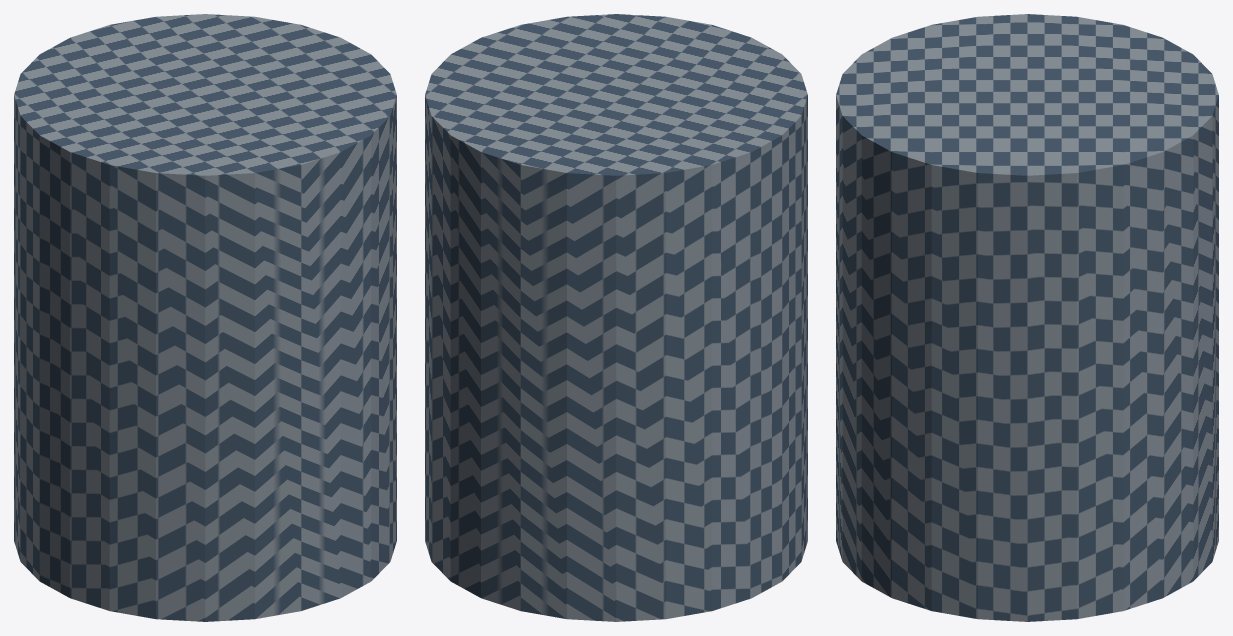
The model's file is barrel_clean.glb.
3 renders of one model, left to right at view 1: azimuth 30°, elevation 25°; view 2: azimuth 150°, elevation 25°; view 3: azimuth 270°, elevation 25°, orthographic.
Parts seen in each view (by area): view 1: barrel_clean; view 2: barrel_clean; view 3: barrel_clean.
Part boxes in pixels (x1,y1,x2,y2): barrel_clean: (14, 14, 396, 621); barrel_clean: (425, 14, 807, 621); barrel_clean: (836, 14, 1218, 621).
Bounding box in the file's own units: 0.7 × 0.9 × 0.7.
Materials: 1 (1 with a texture image).
